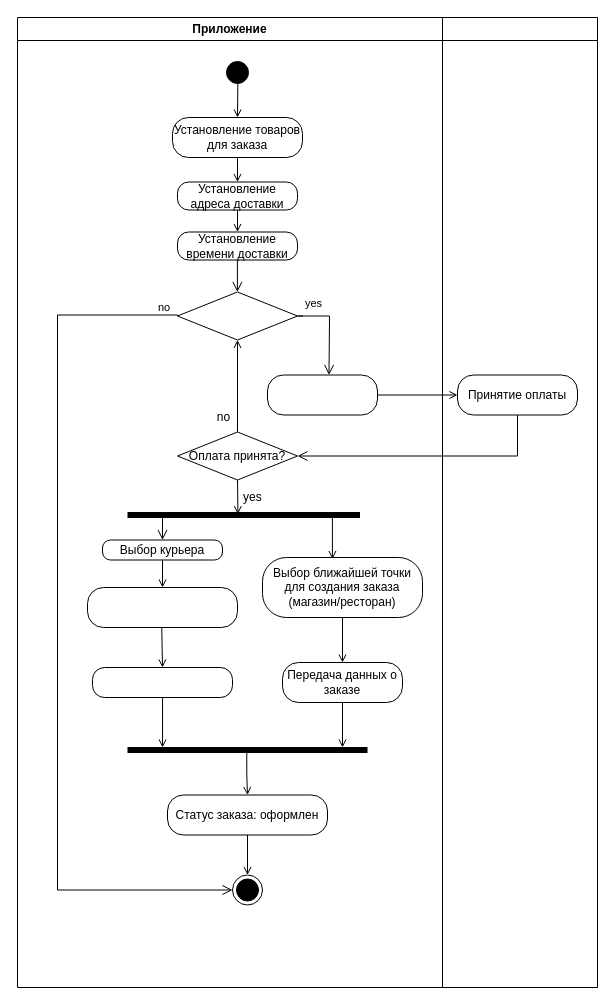
Some shapes in this 615 by 1005 pixel diagram are drawn without their labels. Here are the shapes that lost their labels. From the top down, the box of each, then its label:
(176, 291, 298, 340): Оплата заказа?
(266, 374, 378, 415): Принятие данных для оплаты
(442, 16, 598, 988): Банк
(86, 586, 238, 628): Внесение заказа в базу активных заказов курьера
(92, 666, 232, 698): Построение маршрута курьера
